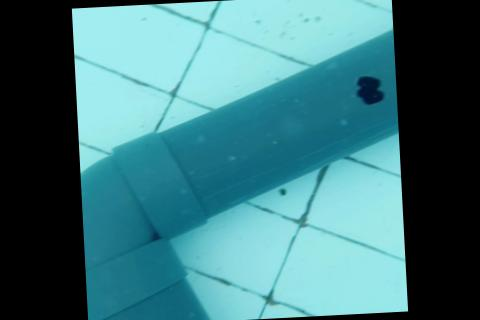kebocoran: (354, 72, 386, 105)
